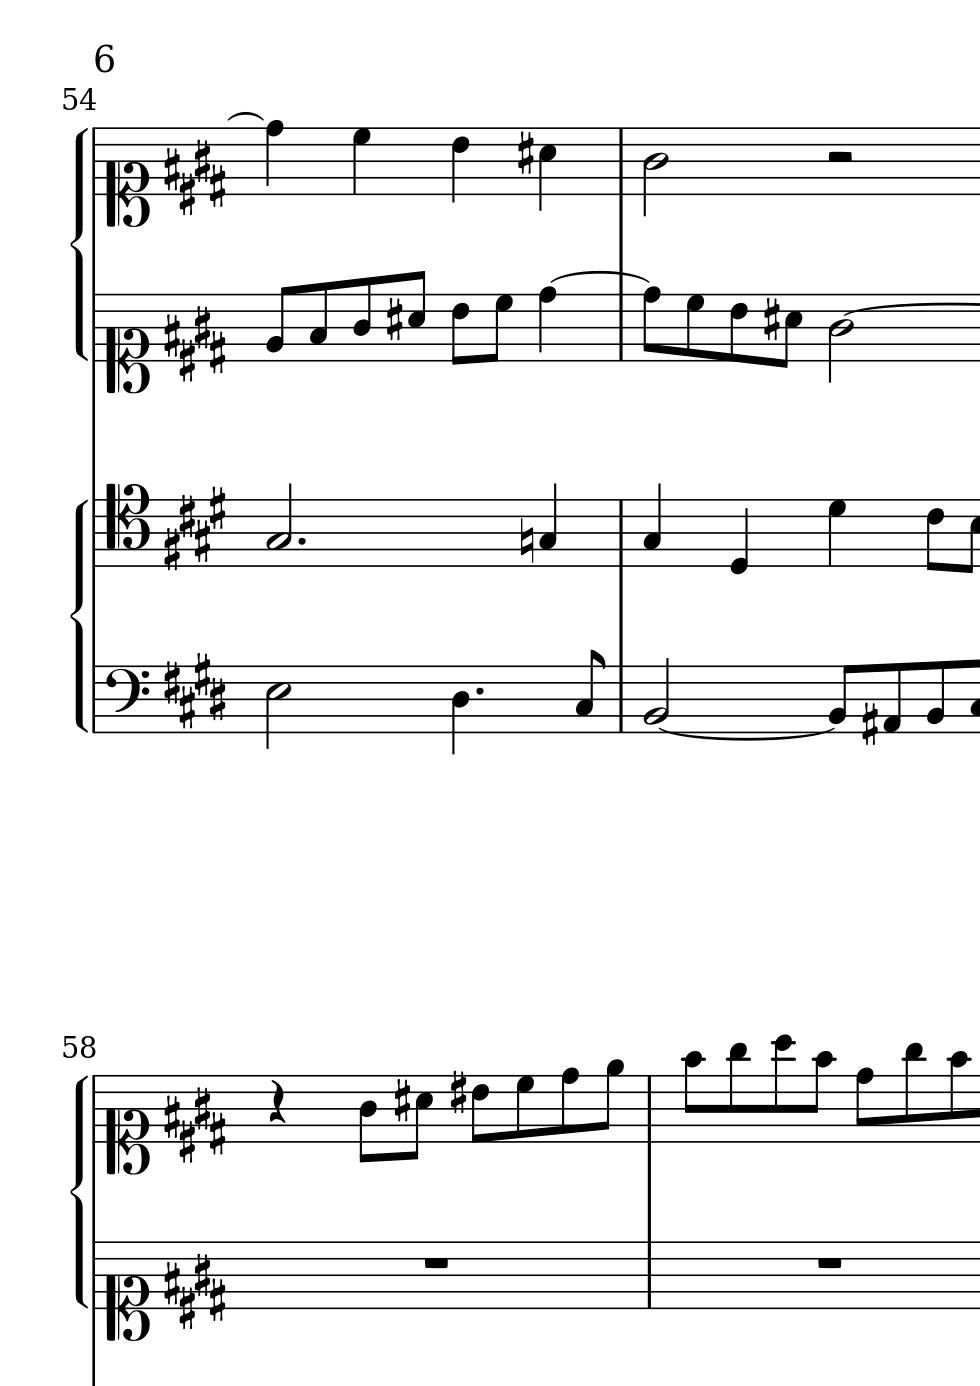2_2: (641, 656, 670, 734)
2_3: (265, 484, 293, 566)
2_4: (641, 127, 669, 216), (827, 293, 854, 385)
2_5: (263, 664, 291, 749)
4: (78, 86, 97, 113)
4_0: (729, 497, 750, 575)
4_3: (641, 483, 662, 567), (538, 483, 558, 567)
4_4: (449, 665, 470, 756)
4_5: (537, 127, 557, 213)
4_6: (449, 126, 469, 204)
4_7: (825, 497, 848, 569), (350, 126, 372, 196)
4_8: (263, 118, 284, 197), (536, 286, 557, 362)
5: (62, 1033, 78, 1060), (62, 85, 77, 111)
6: (94, 42, 113, 73)
8: (78, 1033, 97, 1060)
8_1: (880, 661, 902, 736)
8_10: (679, 1049, 707, 1144), (808, 1050, 836, 1145), (947, 1050, 972, 1145)
8_11: (725, 1040, 749, 1145), (902, 1040, 925, 1144)
8_12: (771, 1032, 795, 1146)
8_2: (826, 663, 855, 734), (264, 285, 290, 363), (924, 659, 945, 735)
8_3: (573, 650, 605, 735), (307, 281, 329, 363)
8_4: (356, 1073, 378, 1165), (351, 276, 373, 363)
8_5: (404, 1072, 433, 1161), (405, 269, 427, 363), (778, 293, 803, 370)
8_6: (470, 1073, 492, 1145), (924, 497, 945, 573), (727, 292, 748, 365), (449, 292, 469, 368)
8_7: (485, 292, 513, 363), (684, 292, 706, 363), (513, 1073, 535, 1145)
8_8: (558, 1066, 582, 1145), (640, 285, 662, 363), (854, 1066, 875, 1146)
8_9: (598, 1058, 625, 1144)
Brace: (70, 122, 90, 363), (72, 1072, 91, 1321), (70, 494, 89, 733)
E_S: (164, 485, 229, 571), (162, 141, 231, 214), (164, 1083, 225, 1165), (164, 301, 225, 383), (163, 1249, 224, 1330), (163, 651, 224, 731)
Fclef: (103, 663, 148, 734)
Natural: (518, 515, 535, 566)
Rests1: (419, 1252, 453, 1271), (813, 1253, 846, 1273)
Rests2: (824, 150, 855, 165)
Rests4: (267, 1078, 287, 1125)
Sharp: (447, 1068, 469, 1115), (760, 294, 781, 343), (860, 701, 880, 749), (391, 1076, 412, 1124), (384, 295, 403, 343), (515, 130, 535, 177)
Single_barline: (612, 128, 630, 196), (612, 293, 630, 361), (612, 501, 630, 566), (612, 665, 629, 732), (87, 499, 103, 569), (641, 1075, 657, 1143), (641, 1242, 657, 1309), (88, 294, 103, 363), (88, 1241, 103, 1310), (87, 128, 102, 196), (88, 666, 102, 734), (88, 1075, 102, 1143)
Slur: (660, 726, 832, 743), (552, 270, 650, 285), (226, 111, 264, 123)
Soprano_Cclef: (103, 1238, 151, 1343), (103, 291, 150, 393), (104, 1072, 150, 1174), (104, 124, 148, 227)
Tensor_Cclef: (103, 483, 148, 567)
dot: (472, 684, 487, 699), (295, 536, 307, 547)
